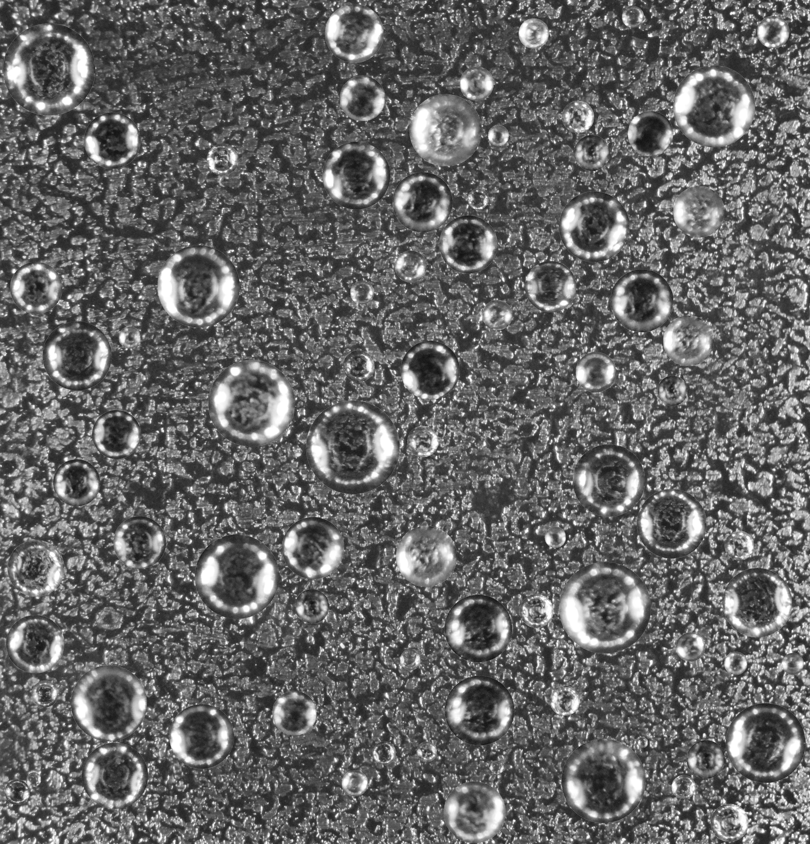Bubble: (306, 400, 399, 494), (3, 23, 95, 115), (559, 562, 650, 653), (208, 360, 294, 446), (194, 534, 279, 618), (561, 739, 645, 823), (673, 65, 755, 147), (157, 245, 239, 327), (726, 703, 805, 782), (70, 665, 146, 741), (572, 444, 645, 516), (409, 94, 481, 166), (559, 191, 629, 261), (444, 675, 514, 745), (722, 568, 792, 637), (637, 489, 706, 558), (42, 321, 111, 390), (444, 594, 512, 662), (322, 141, 390, 209), (81, 742, 147, 808), (169, 704, 233, 768), (610, 269, 673, 332), (443, 781, 505, 843), (282, 517, 344, 579), (396, 526, 456, 586), (392, 172, 452, 232), (400, 340, 459, 399), (6, 615, 64, 673), (439, 215, 497, 273), (325, 4, 383, 62), (7, 540, 64, 596), (84, 112, 140, 168), (113, 516, 165, 568), (10, 261, 62, 313), (525, 261, 576, 312), (673, 186, 724, 237), (663, 315, 713, 366), (92, 410, 140, 458), (53, 459, 100, 506), (339, 75, 385, 120), (628, 111, 673, 156), (272, 691, 316, 735), (575, 352, 616, 392), (686, 740, 725, 778), (710, 804, 748, 841), (574, 135, 609, 170), (294, 589, 329, 623), (459, 66, 493, 100), (519, 594, 553, 627), (562, 100, 594, 132), (757, 15, 789, 47), (206, 143, 238, 175), (395, 250, 426, 282), (343, 350, 374, 381), (407, 426, 438, 457), (518, 18, 548, 48), (657, 375, 687, 405), (482, 300, 512, 330), (724, 531, 754, 560), (550, 685, 579, 715), (676, 632, 705, 661), (31, 680, 58, 707), (341, 770, 367, 796), (4, 779, 29, 804), (671, 775, 695, 799), (350, 280, 373, 304), (372, 741, 395, 764), (724, 651, 747, 674), (118, 326, 140, 348), (622, 5, 643, 27), (467, 188, 488, 209), (544, 526, 565, 547), (782, 653, 803, 674), (400, 649, 420, 670), (416, 741, 436, 762), (488, 125, 508, 145), (26, 772, 40, 786), (490, 760, 503, 774), (734, 367, 746, 379), (637, 737, 648, 747)
